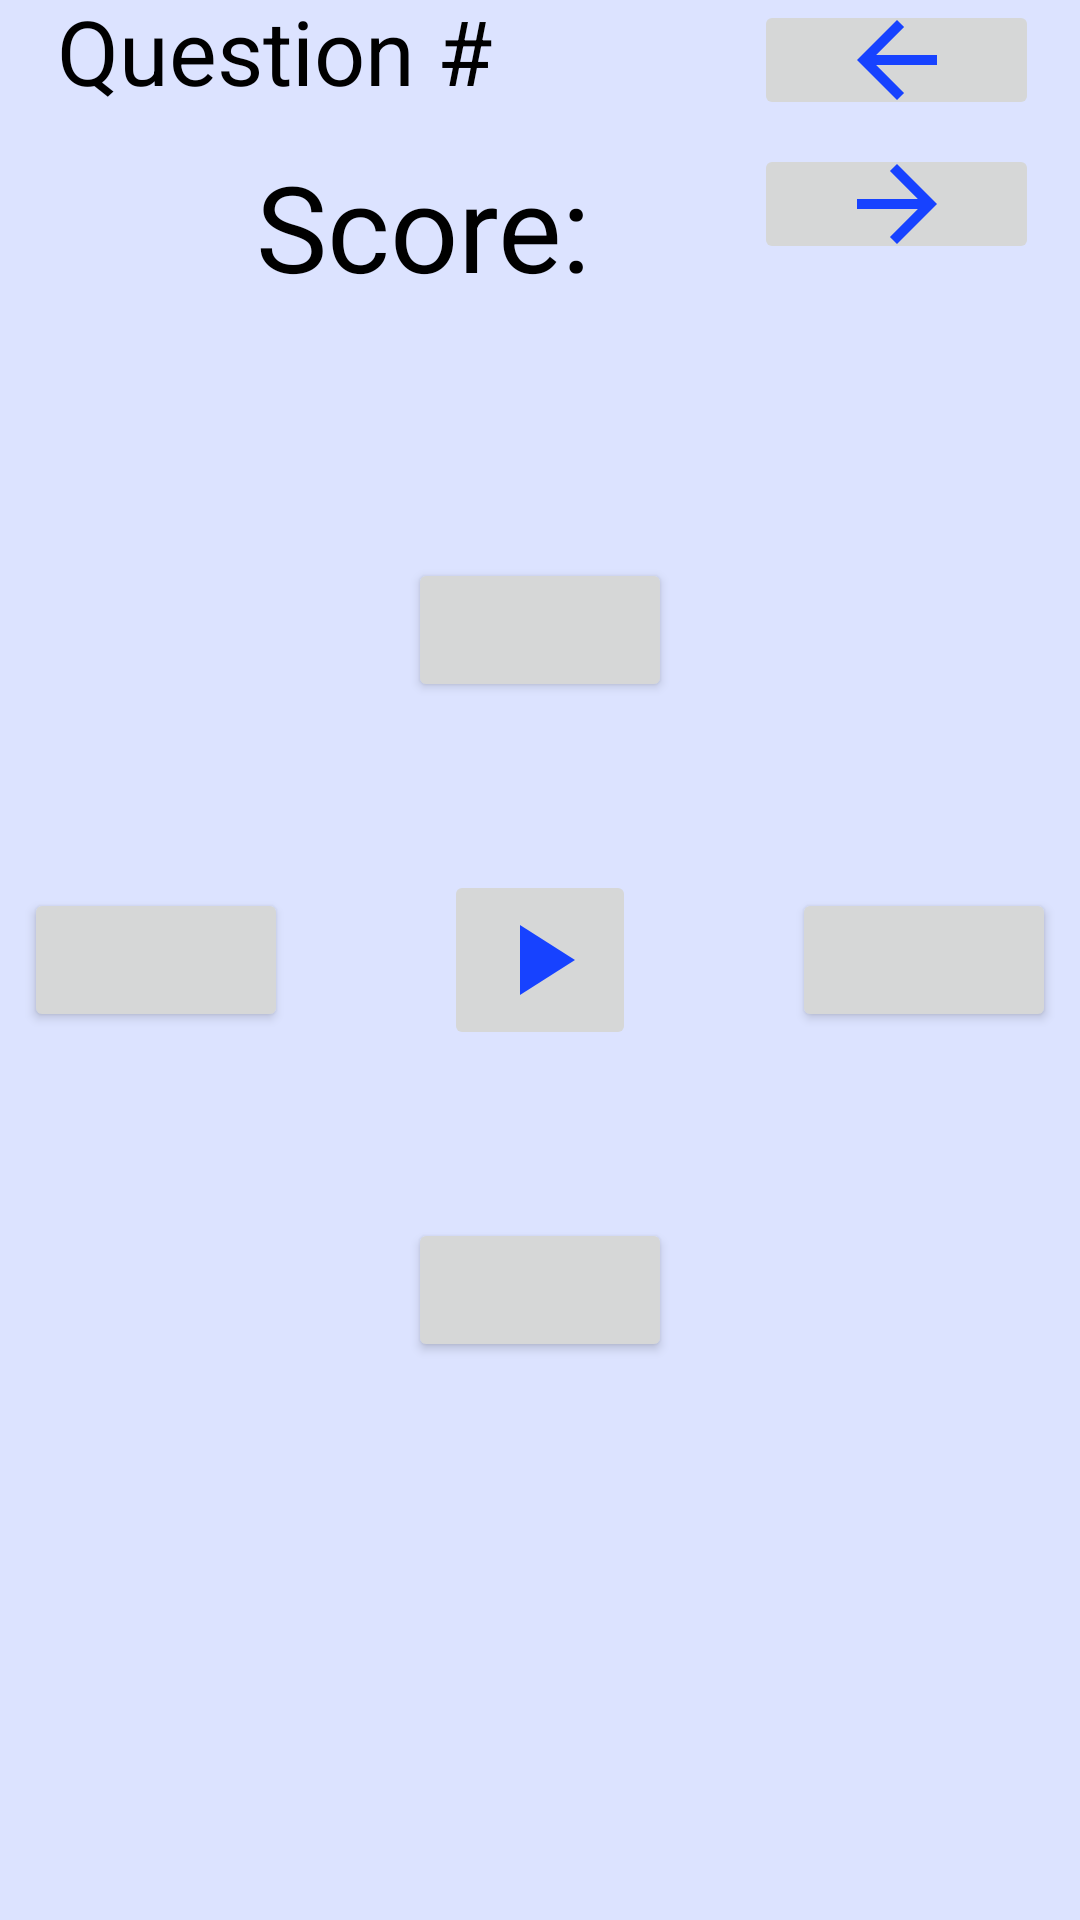

Named icons in this screenshot (1080px x 1920px) and their centers, point (x, y):
Go Back: point (896, 60)
Go to the Next Question: point (896, 204)
Play Audio: point (540, 960)
